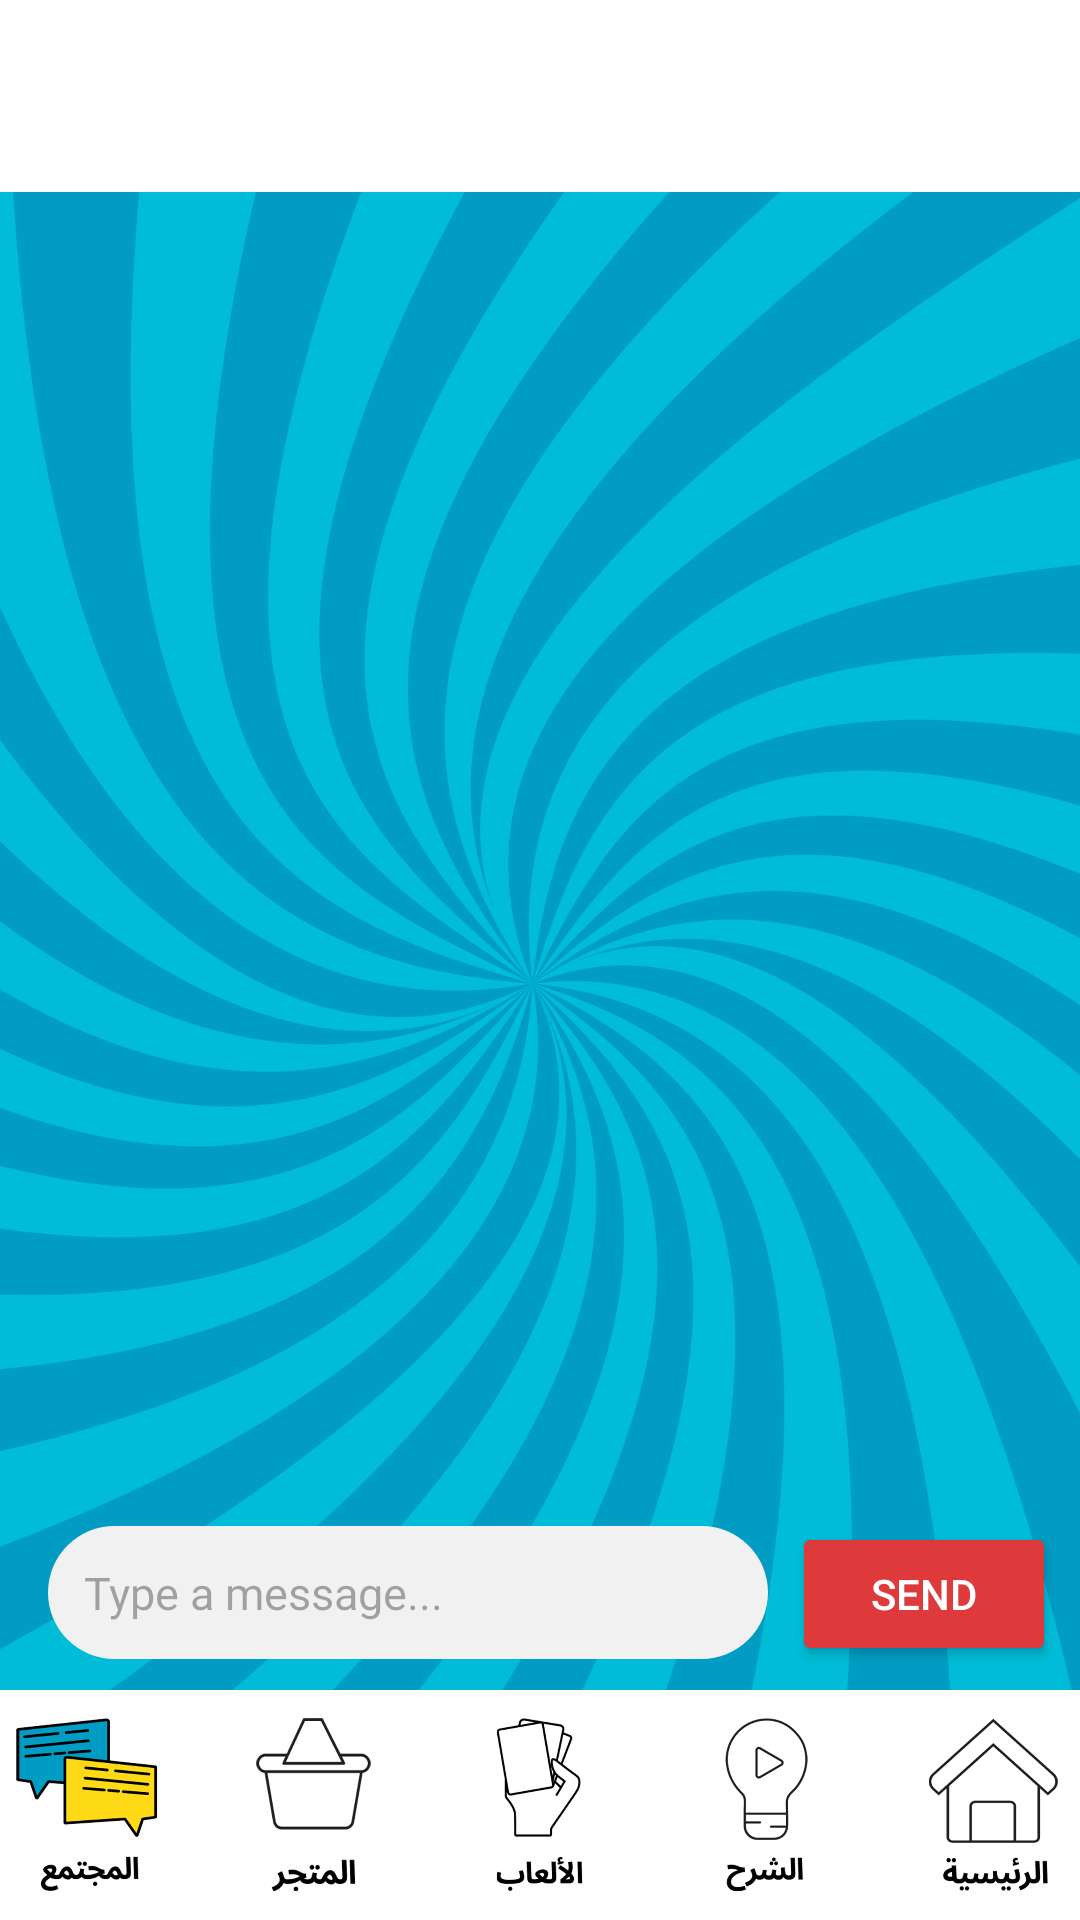

Icon click points for this 1080×1920 phone screenshot, format point (x, y):
livechat: point (86, 1804)
